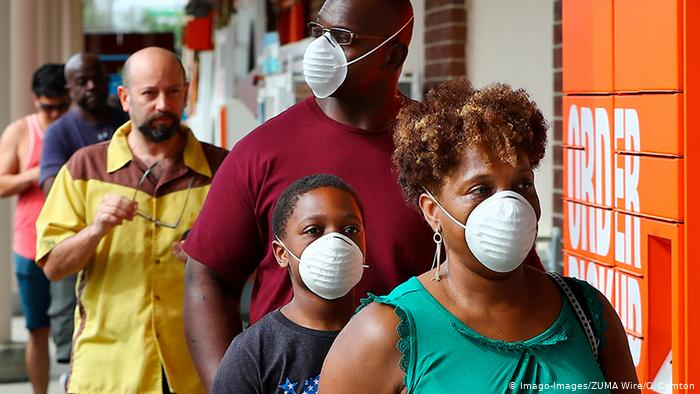with_mask: (421, 162, 548, 270), (298, 7, 412, 102), (276, 204, 372, 289)
without_mask: (125, 68, 191, 136)
